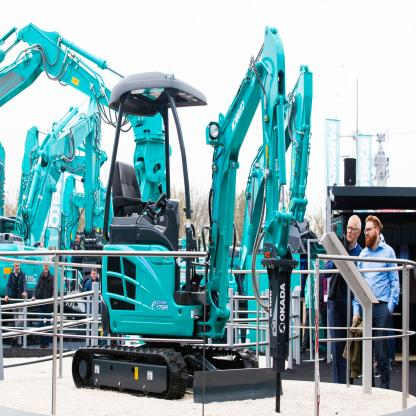excavator: (58, 35, 338, 409)
person: (355, 209, 409, 400), (326, 200, 368, 396)
